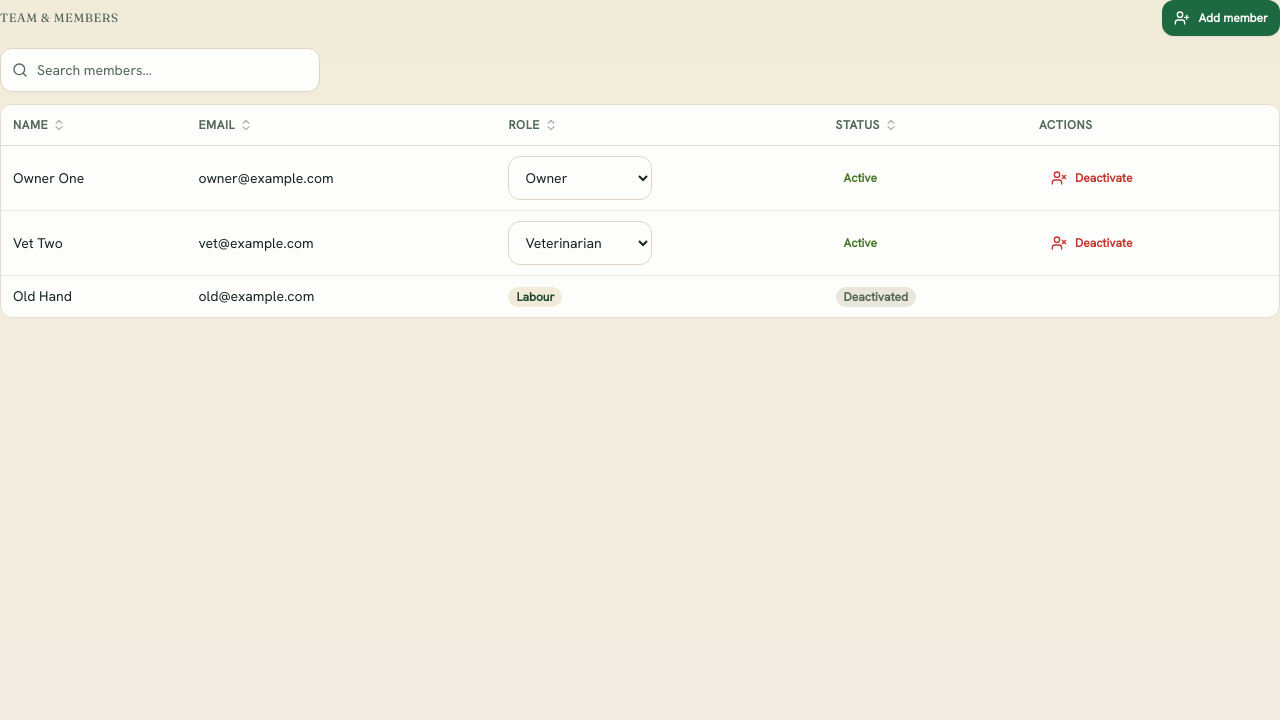
Test: TeamPanel (slice 11.9) › deactivates behind a danger confirm and maps LAST_OWNER to a clear explanation
expect the text "Owner One" is shown: met, box x1=13 y1=168 x2=84 y2=186
first Deactivate button belongs to the first ACTIVE row (Owner One)
Click the button "Deactivate" in the row of "Owner One": (1092, 178) x1=1039 y1=160 x2=1144 y2=196
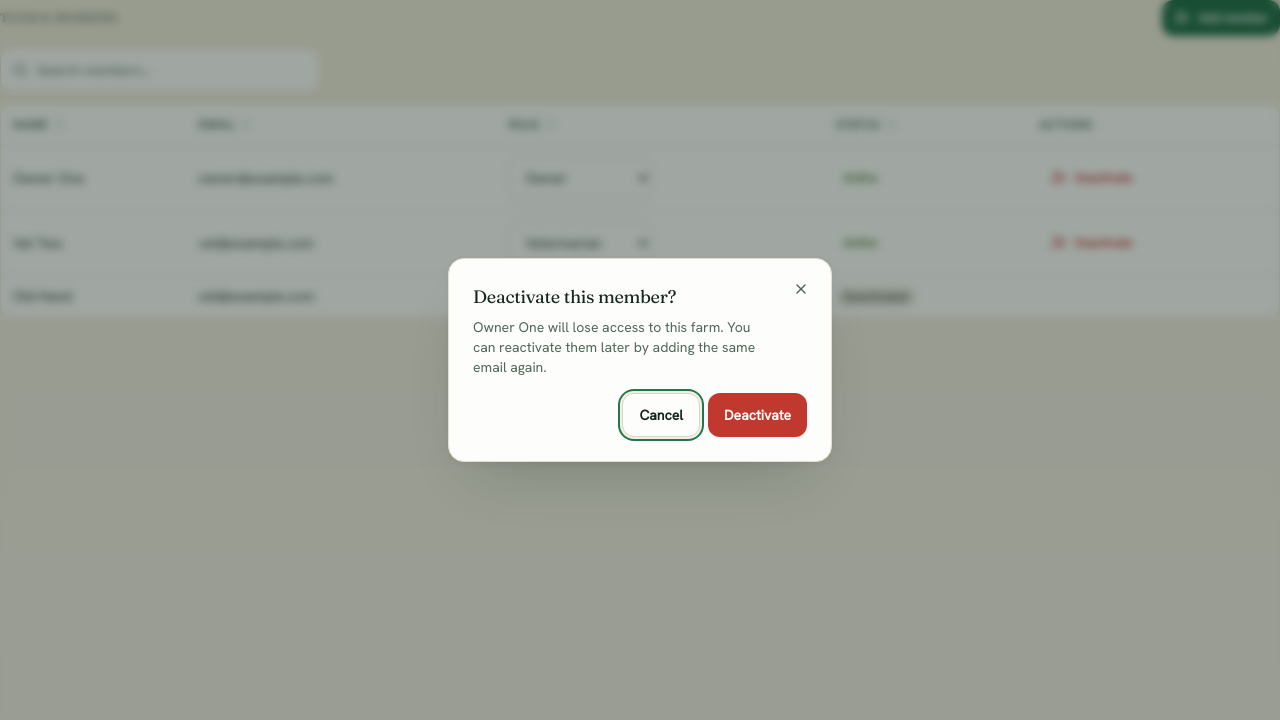
expect the heading "Deactivate this member?" is shown: met, box x1=473 y1=285 x2=676 y2=308
Click the button "Deactivate": (758, 415) x1=708 y1=393 x2=807 y2=437
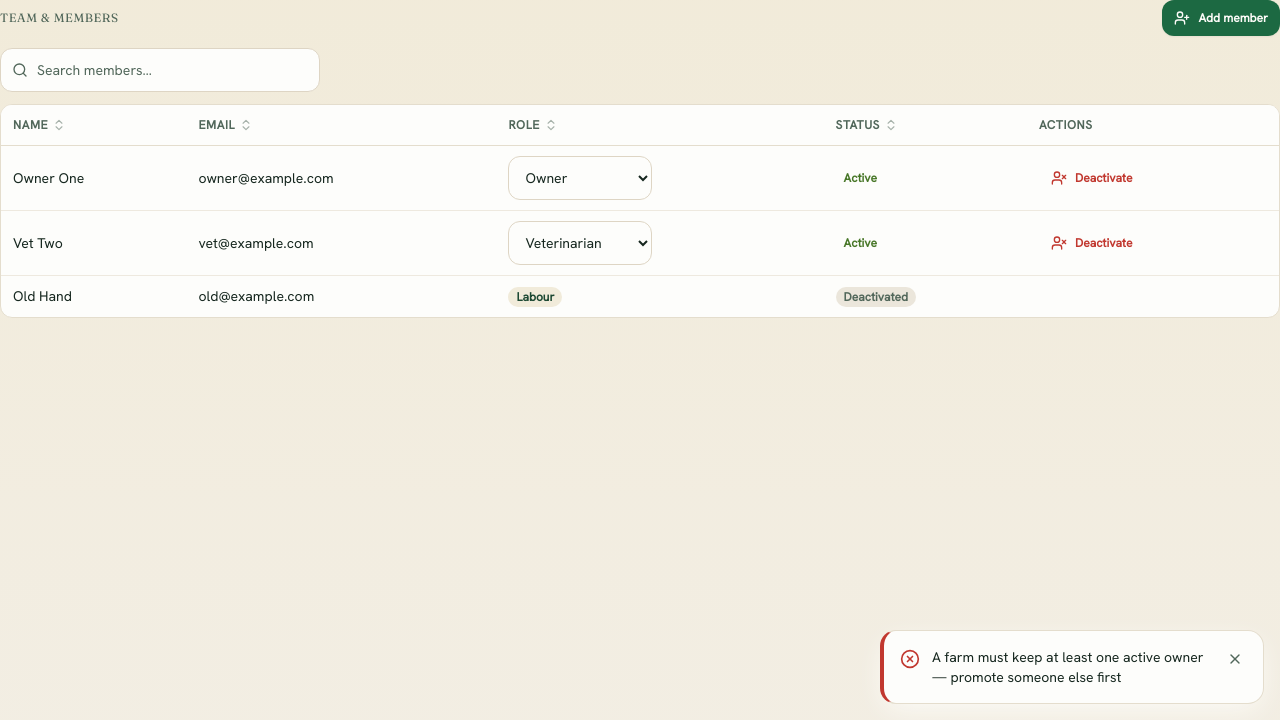
expect the text "A farm must keep at least one active owner — promote someone else first" is shown: met, box x1=932 y1=647 x2=1211 y2=687
